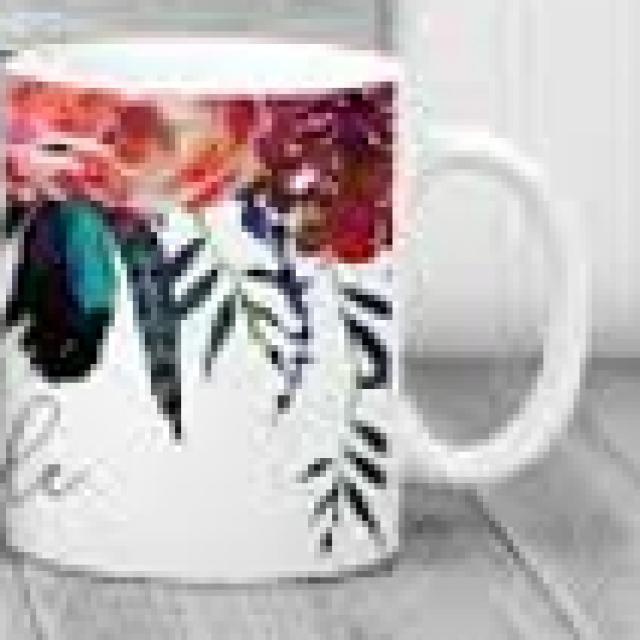taza: (0, 42, 588, 589)
